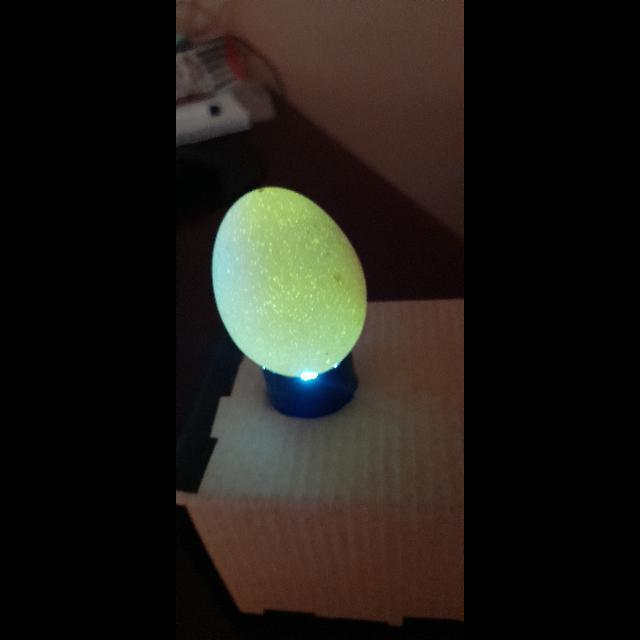AA - Premium: (214, 188, 370, 374)
